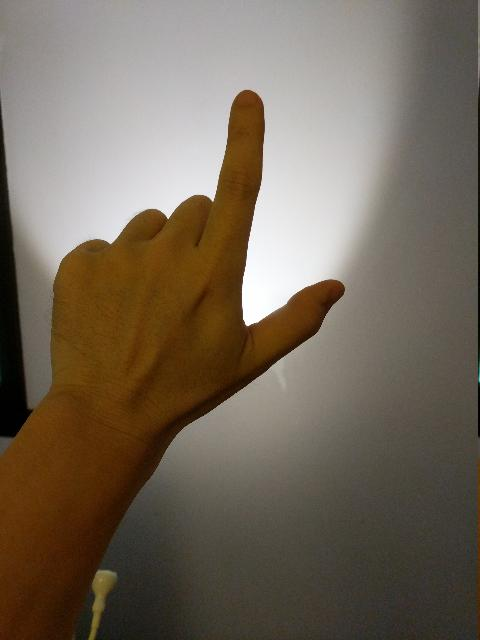L: (43, 83, 352, 440)
